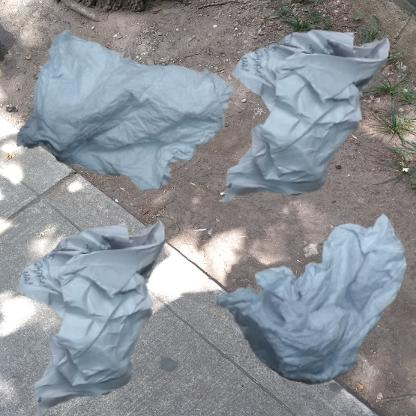papel: (10, 10, 275, 242), (213, 10, 397, 229), (10, 213, 183, 416), (213, 213, 409, 387)
